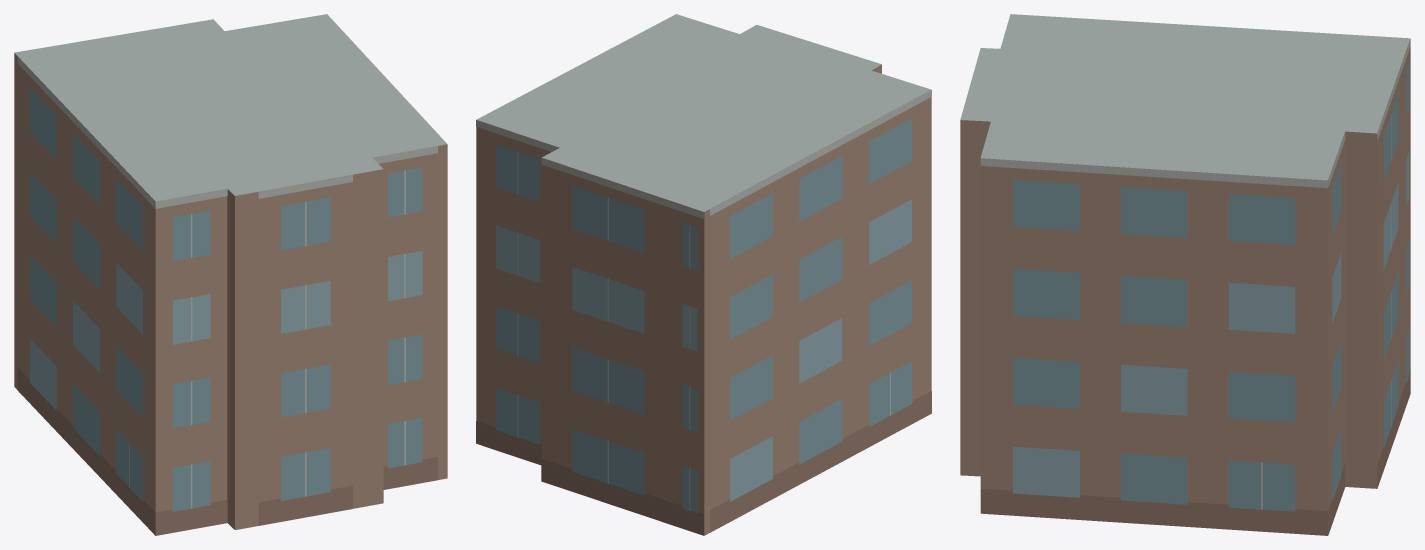
File: survey-upis-32747302.glb
The picture shows the model from 3 angles, left to right: view 1: azimuth 30°, elevation 25°; view 2: azimuth 150°, elevation 25°; view 3: azimuth 270°, elevation 25°; orthographic projection. The views are drawn at different scales.
Visible parts, largest first — view 1: survey-upis-32747302.tmp; view 2: survey-upis-32747302.tmp; view 3: survey-upis-32747302.tmp.
Part boxes in pixels (x1,y1,x2,y2): survey-upis-32747302.tmp: (14,14,447,535); survey-upis-32747302.tmp: (476,14,931,535); survey-upis-32747302.tmp: (960,14,1410,535).
Size of the model in its own units: 11.26 by 11.2 by 12.87.
